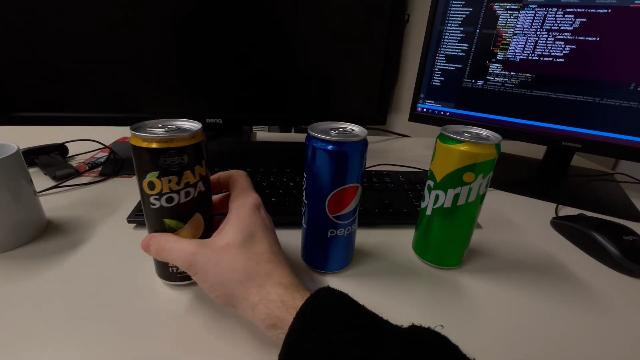OranSoda: (128, 117, 216, 289)
Pepsi: (297, 118, 368, 276)
Sprite: (408, 122, 504, 270)
